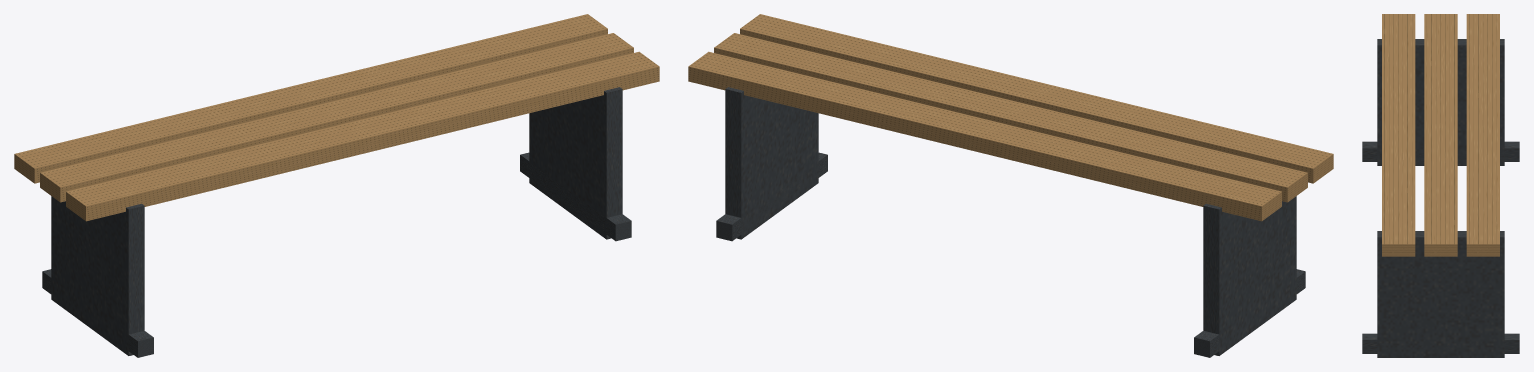
The model's file is bank_kurz_h6.glb.
3 renders of one model, left to right at view 1: azimuth 30°, elevation 25°; view 2: azimuth 150°, elevation 25°; view 3: azimuth 270°, elevation 25°, orthographic. The views are drawn at different scales.
Visible parts, largest first — view 1: H6; view 2: H6; view 3: H6.
Part boxes in pixels (left/top/right/bottom): H6: left=14, top=14, right=659, bottom=357; H6: left=688, top=14, right=1333, bottom=357; H6: left=1362, top=14, right=1519, bottom=357.
Size of the model in its own units: 1.8 by 0.4725 by 0.52.
1 material, 1 textured.
